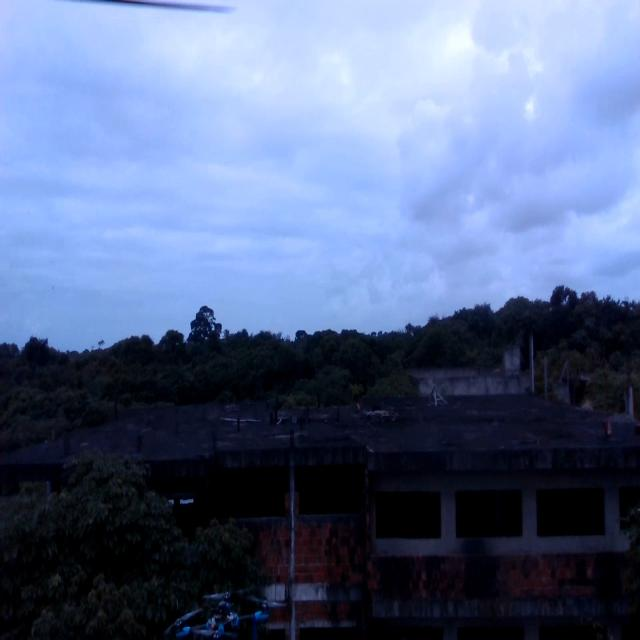-uav-: (162, 579, 276, 640)
